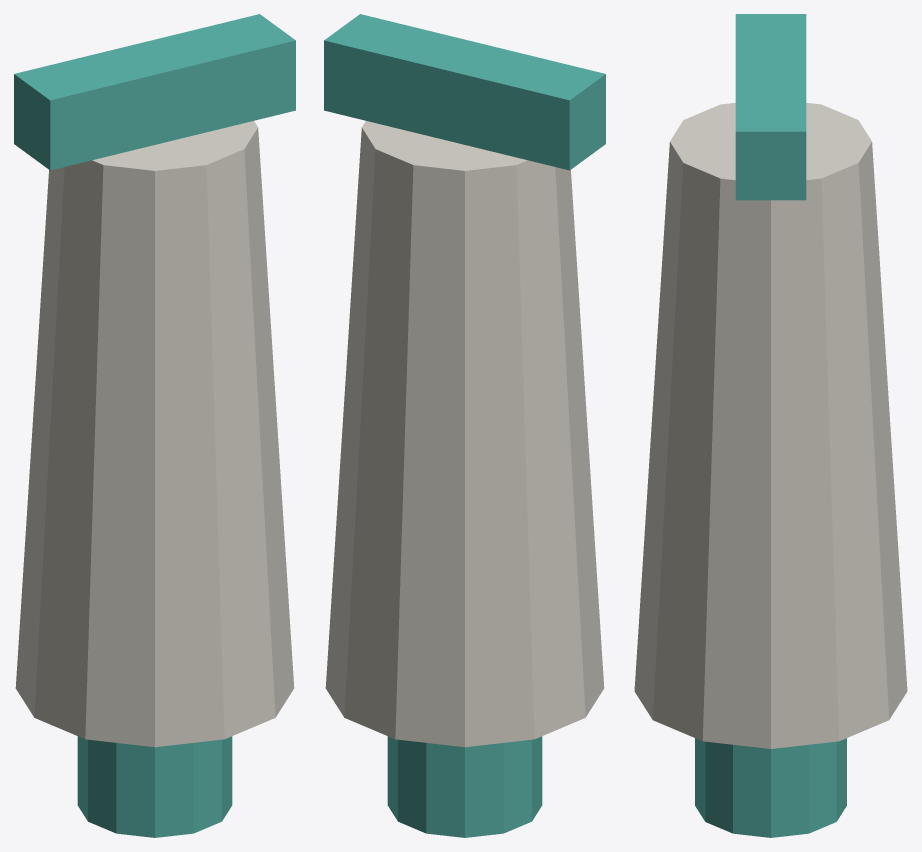
File: supermarket-operations-toothpaste-tube-9654d744__26944.glb
3 renders of one model, left to right at view 1: azimuth 30°, elevation 25°; view 2: azimuth 150°, elevation 25°; view 3: azimuth 270°, elevation 25°, orthographic. The views are drawn at different scales.
Parts seen in each view (by area): view 1: toothpaste-tube; view 2: toothpaste-tube; view 3: toothpaste-tube.
Boxes of the visible parts, <box> form: toothpaste-tube: <box>14,14,295,837</box>; toothpaste-tube: <box>324,14,605,837</box>; toothpaste-tube: <box>634,14,907,837</box>.
Size of the model in its own units: 0.055 by 0.16 by 0.054.
